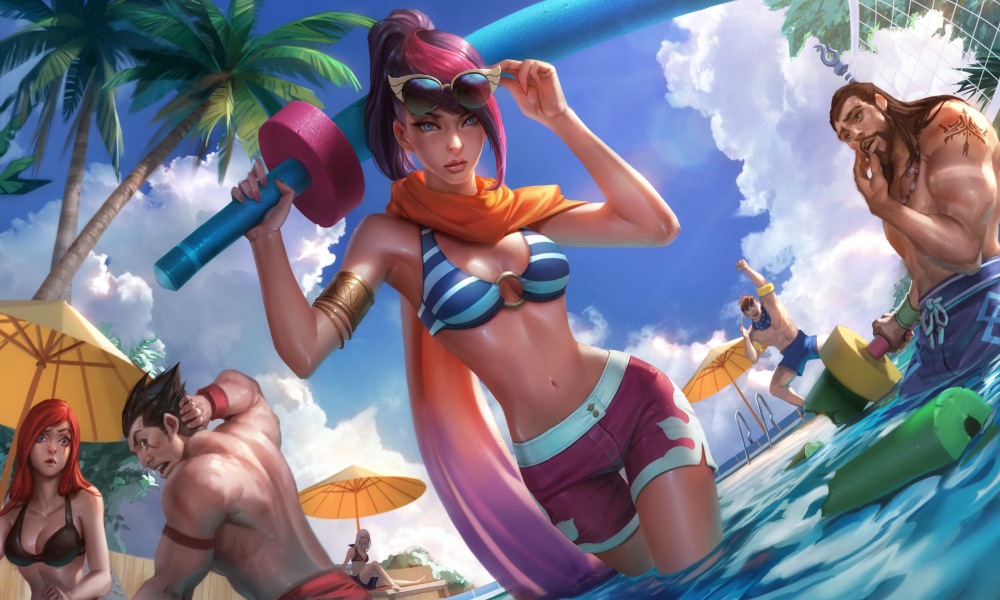face: (348, 9, 524, 194), (120, 360, 221, 481), (819, 70, 910, 168), (5, 397, 103, 481)
